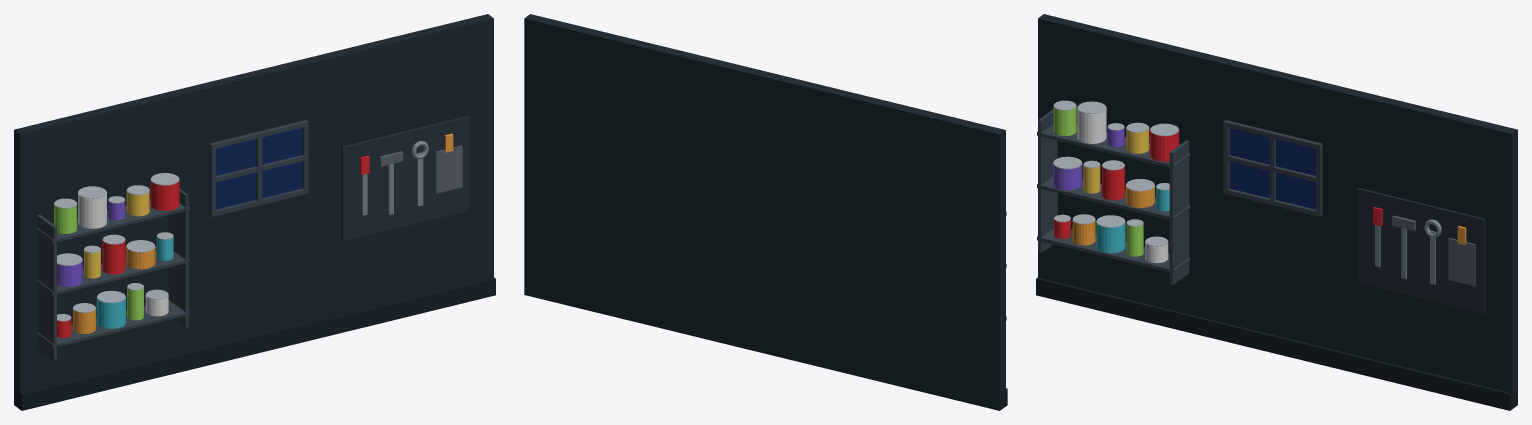
File: pared_garaje.glb
3 views of the same model, side by side, from view 1: azimuth 30°, elevation 25°; view 2: azimuth 150°, elevation 25°; view 3: azimuth 330°, elevation 25° (orthographic).
Visible parts, largest first — view 1: Cube, Cube.007, Cube.001, Cube.015, Cube.005, Cube.006, Cube.002, Cube.003, Cube.004, Cube.013, Cylinder.022, Cylinder.004 (+14 smaller); view 2: Cube; view 3: Cube, Cube.007, Cube.001, Cube.015, Cube.006, Cube.005, Cube.002, Cube.003, Cube.004, Cube.013, Cylinder.022, Cylinder.004 (+15 smaller).
Boxes of the visible parts, x1,y1,x2,y2 form: Cube: [14, 14, 493, 408]; Cube.007: [341, 116, 469, 241]; Cube.001: [14, 277, 495, 410]; Cube.015: [216, 128, 302, 209]; Cube.005: [37, 215, 56, 359]; Cube.006: [168, 188, 188, 327]; Cube.002: [36, 300, 189, 347]; Cube.003: [36, 251, 189, 295]; Cube.004: [36, 200, 189, 243]; Cube.013: [435, 145, 462, 193]; Cylinder.022: [78, 192, 106, 228]; Cylinder.004: [96, 297, 125, 328]; Cube: [524, 14, 1005, 410]; Cube: [1038, 14, 1517, 405]; Cube.007: [1357, 188, 1485, 313]; Cube.001: [1036, 277, 1517, 410]; Cube.015: [1229, 128, 1315, 209]; Cube.006: [1169, 140, 1189, 285]; Cube.005: [1038, 109, 1057, 253]; Cube.002: [1037, 228, 1190, 273]; Cube.003: [1037, 177, 1190, 221]; Cube.004: [1037, 124, 1190, 168]; Cube.013: [1448, 238, 1475, 286]; Cylinder.022: [1077, 108, 1106, 143]; Cylinder.004: [1096, 221, 1125, 253].
Size of the model in its own units: 9 by 5 by 0.755.
